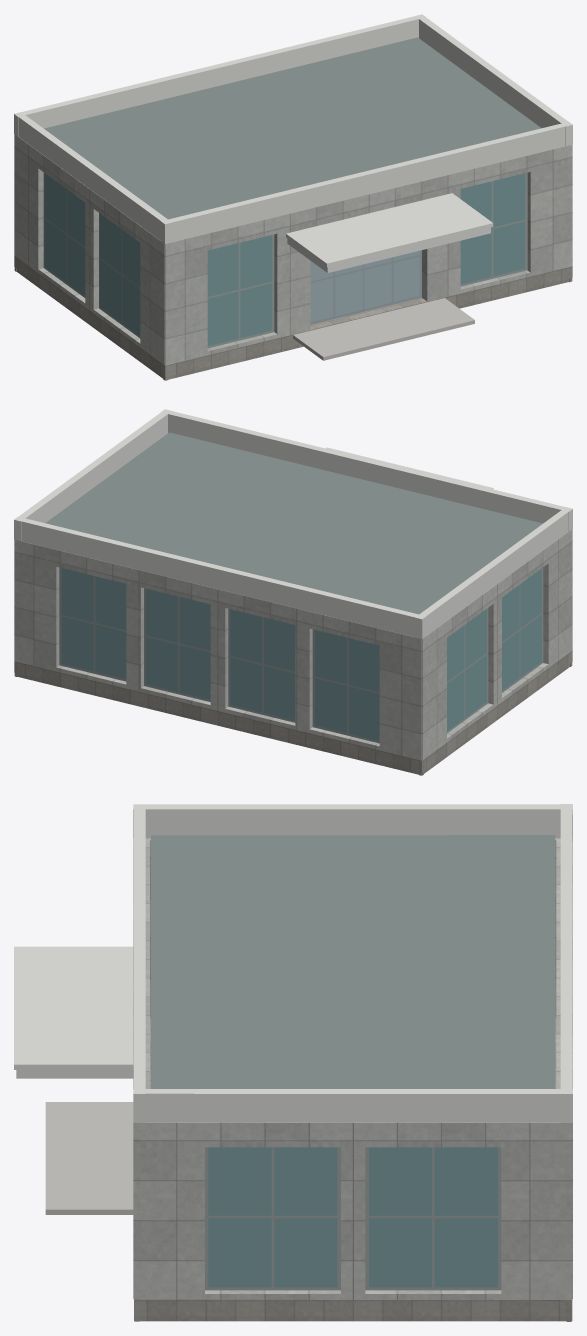
The picture shows the model from 3 angles, top to bottom: view 1: azimuth 30°, elevation 25°; view 2: azimuth 150°, elevation 25°; view 3: azimuth 270°, elevation 25°; orthographic projection. The views are drawn at different scales.
Parts seen in each view (by area): view 1: kiosk__roof, kiosk__wall, kiosk__cap, kiosk__glass, kiosk__plinth, kiosk__threshold-main, kiosk__doorglass, kiosk__frame, kiosk__foundation, kiosk__canopy, kiosk__door; view 2: kiosk__roof, kiosk__wall, kiosk__glass, kiosk__cap, kiosk__plinth, kiosk__frame, kiosk__foundation; view 3: kiosk__roof, kiosk__cap, kiosk__wall, kiosk__glass, kiosk__threshold-main, kiosk__plinth, kiosk__frame, kiosk__foundation, kiosk__canopy.
Part boxes in pixels (box(x1,y1,x2,y2)): kiosk__roof: box(44, 37, 541, 219); kiosk__wall: box(14, 134, 572, 365); kiosk__cap: box(14, 14, 572, 267); kiosk__glass: box(45, 173, 525, 345); kiosk__plinth: box(14, 256, 572, 376); kiosk__threshold-main: box(293, 298, 474, 360); kiosk__doorglass: box(310, 251, 419, 322); kiosk__frame: box(43, 172, 527, 348); kiosk__foundation: box(14, 257, 572, 380); kiosk__canopy: box(287, 227, 490, 272); kiosk__door: box(310, 250, 421, 324); kiosk__roof: box(45, 432, 542, 614); kiosk__wall: box(14, 529, 572, 760); kiosk__glass: box(61, 568, 541, 741); kiosk__cap: box(14, 409, 572, 638); kiosk__plinth: box(14, 651, 572, 771); kiosk__frame: box(59, 567, 543, 743); kiosk__foundation: box(14, 662, 572, 775); kiosk__roof: box(151, 835, 555, 1088); kiosk__cap: box(14, 804, 572, 1122); kiosk__wall: box(133, 838, 572, 1299); kiosk__glass: box(208, 1147, 497, 1287); kiosk__threshold-main: box(45, 1102, 133, 1214); kiosk__plinth: box(134, 1017, 572, 1316); kiosk__frame: box(205, 1147, 501, 1290); kiosk__foundation: box(134, 1301, 572, 1321); kiosk__canopy: box(16, 1070, 133, 1078).
Bounding box in the file's own units: 13.99 × 5.13 × 11.4.
Materials: 11 (3 with a texture image).
